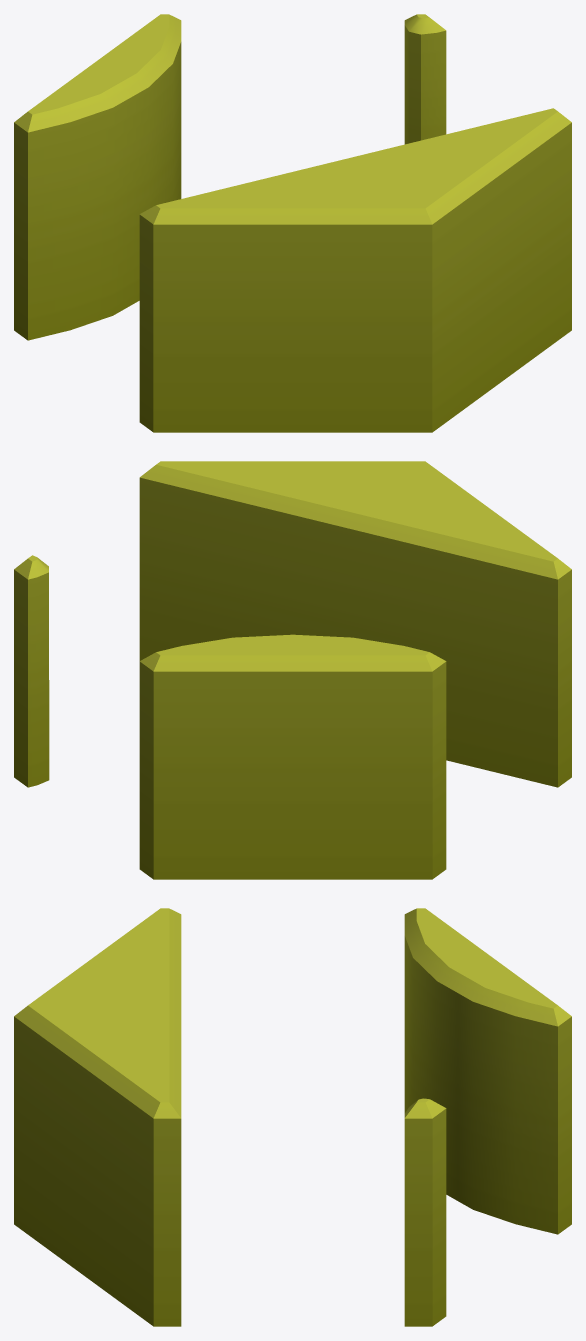
Rendered from kaykit-medieval-hexagon-pack-hex-river-e-waterless.glb.
3 renders of one model, top to bottom at view 1: azimuth 30°, elevation 25°; view 2: azimuth 150°, elevation 25°; view 3: azimuth 270°, elevation 25°, orthographic.
Visible parts, largest first — view 1: hex_river_E_waterless; view 2: hex_river_E_waterless; view 3: hex_river_E_waterless.
Boxes of the visible parts, left/top/right/bottom form: hex_river_E_waterless: left=14, top=14, right=571, bottom=432; hex_river_E_waterless: left=14, top=461, right=571, bottom=879; hex_river_E_waterless: left=14, top=908, right=571, bottom=1326.
Bounding box in the file's own units: 2 × 1 × 2.31.
1 material, 1 textured.
